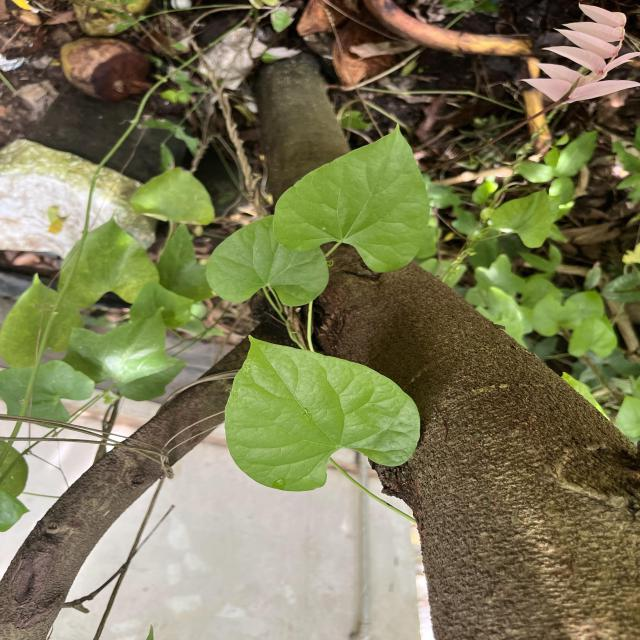Tinospora cordifolia: (222, 330, 422, 494), (268, 118, 432, 276), (203, 213, 333, 310)
